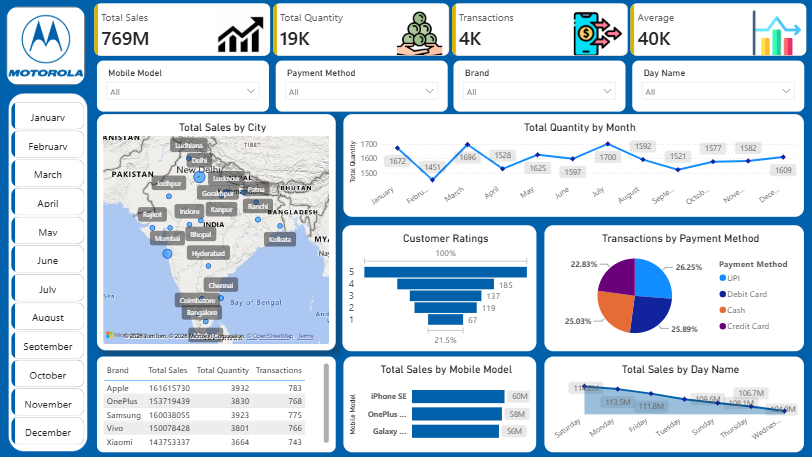

The dashboard page shown, as its layout file describes it:
{"tool":"powerbi","page":{"name":"Page 1","canvas":[1280,720],"ordinal":0},"visuals":[{"type":"image","box":[10.3,10.3,125,125],"z":0},{"type":"shape","box":[13.1,145.8,125.4,564.2],"z":1000},{"type":"advancedSlicerVisual","fields":{"Values":["Sales Data.Date.Variation.Date Hierarchy.Month"]},"box":[13.1,156,125.4,554],"z":2000},{"type":"cardVisual","fields":{"Data":["Sales Data.Total Sales","Sales Data.Total Qunatity","Sales Data.Transactions","Sales Data.Average"]},"box":[138.3,0,1141.7,98.3],"z":3000},{"type":"map","fields":{"Category":["Sales Data.City"],"Size":["Sales Data.Total Sales"]},"box":[151.7,180,375,371.7],"z":4000},{"type":"lineChart","fields":{"Category":["Sales Data.Date.Variation.Date Hierarchy.Month","Sales Data.Date.Variation.Date Hierarchy.Day"],"Y":["Sales Data.Total Quantity"]},"box":[540,180,723.3,161.7],"z":5000},{"type":"barChart","fields":{"Category":["Sales Data.Mobile Model"],"Y":["Sales Data.Total Sales"]},"box":[540,560,303.3,150],"z":6000},{"type":"pieChart","fields":{"Category":["Sales Data.Payment Method"],"Y":["Sales Data.Transactions"]},"box":[855,353.3,408.3,198.3],"z":7000},{"type":"funnel","title":"Customer Ratings","fields":{"Category":["Sales Data.Customer Ratings"],"Y":["CountNonNull(Sales Data.Customer Ratings)"]},"box":[538.3,353.3,305,198.3],"z":8000},{"type":"areaChart","fields":{"Category":["Sales Data.Day Name"],"Y":["Sales Data.Total Sales"]},"box":[855,560,408.3,150],"z":9000},{"type":"tableEx","fields":{"Values":["Sales Data.Brand","Sales Data.Total Sales","Sales Data.Total Quantity","Sales Data.Transactions"]},"box":[151.7,560,375,150],"z":10000},{"type":"slicer","fields":{"Values":["Sales Data.Day Name"]},"box":[993.3,95,270,80],"z":11000},{"type":"slicer","fields":{"Values":["Sales Data.Mobile Model"]},"box":[152,95,270,80],"z":12000},{"type":"slicer","fields":{"Values":["Sales Data.Payment Method"]},"box":[433,95,270,80],"z":13000},{"type":"slicer","fields":{"Values":["Sales Data.Brand"]},"box":[713,95,270,80],"z":14000}]}

Visuals, with their boxes in screenshot pixels (x1, y1, x2, y2), scaled from the page's 1280x720 canvas onto the 812x457 screenshot:
image: (7, 7, 86, 86)
shape: (8, 93, 88, 451)
advancedSlicerVisual - Sales Data.Date.Variation.Date Hierarchy.Month: (8, 99, 88, 451)
cardVisual - Sales Data.Total Sales x Sales Data.Total Qunatity: (88, 0, 811, 62)
map - Sales Data.City x Sales Data.Total Sales: (96, 114, 334, 350)
lineChart - Sales Data.Date.Variation.Date Hierarchy.Month x Sales Data.Date.Variation.Date Hierarchy.Day: (343, 114, 801, 217)
barChart - Sales Data.Mobile Model x Sales Data.Total Sales: (343, 355, 535, 451)
pieChart - Sales Data.Payment Method x Sales Data.Transactions: (542, 224, 801, 350)
"Customer Ratings" funnel: (341, 224, 535, 350)
areaChart - Sales Data.Day Name x Sales Data.Total Sales: (542, 355, 801, 451)
tableEx - Sales Data.Brand x Sales Data.Total Sales: (96, 355, 334, 451)
slicer - Sales Data.Day Name: (630, 60, 801, 111)
slicer - Sales Data.Mobile Model: (96, 60, 268, 111)
slicer - Sales Data.Payment Method: (275, 60, 446, 111)
slicer - Sales Data.Brand: (452, 60, 624, 111)
